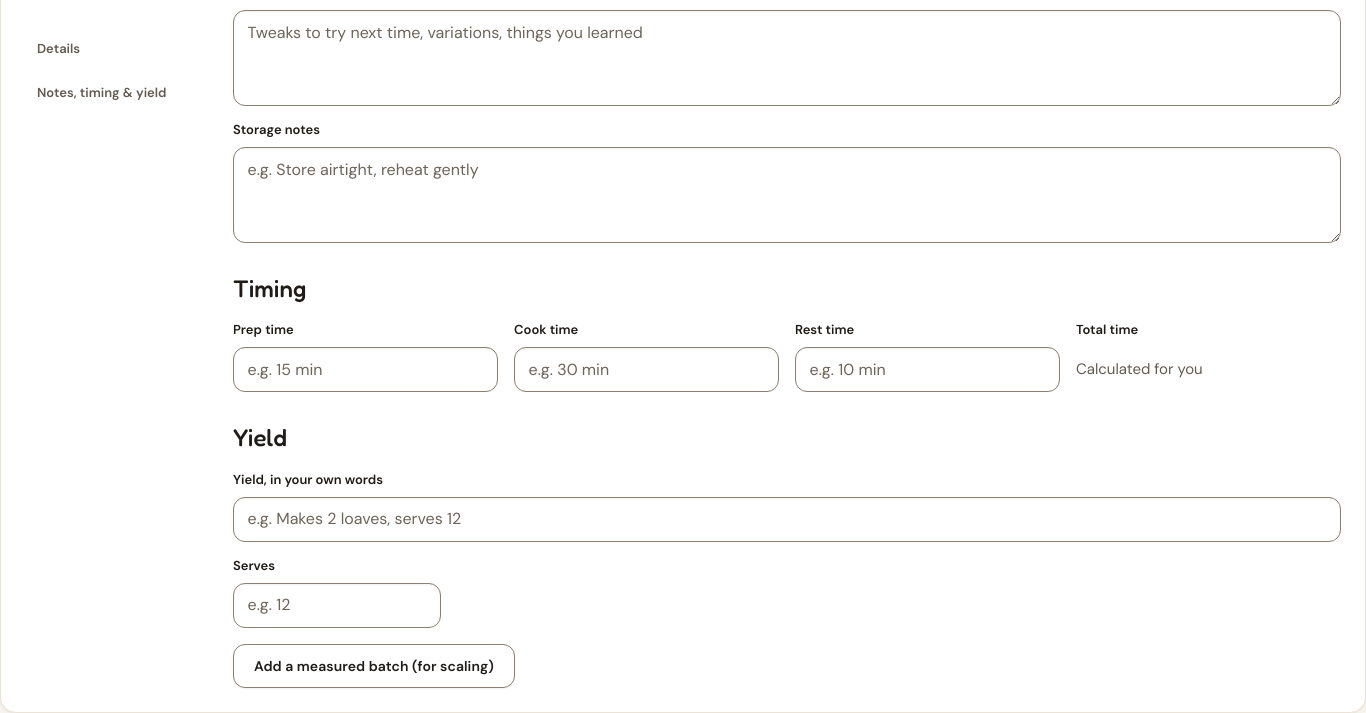
Test case: RecipeEditorComponent › the measured batch is offered, not presented › taking it away again › offers a way out once the fields are showing, and closes them without asking when they hold nothing
(page scrolled)
Click the button "Add a measured batch (for scaling)": (374,666) [233,644,515,688]
(page scrolled)
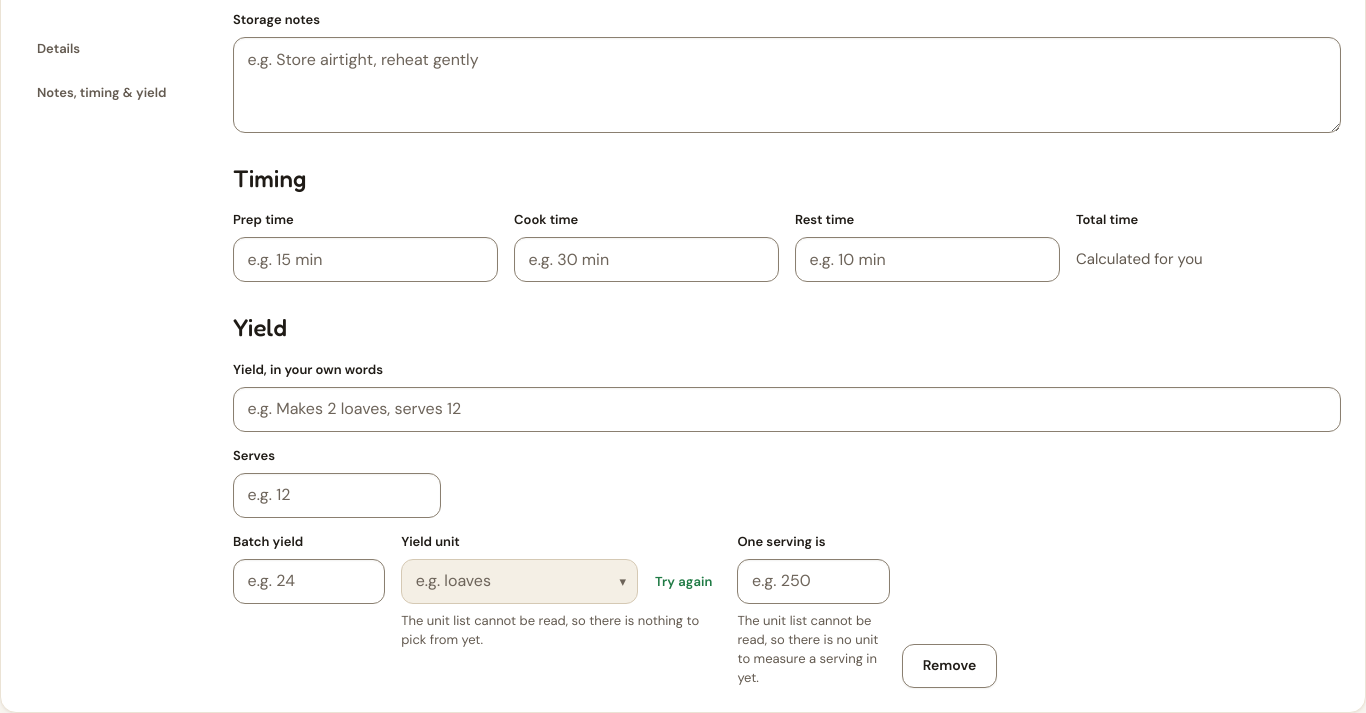
Result: the button with aria-label "Remove measured batch" is shown
Click the button with aria-label "Remove measured batch": (950,666) [902,644,997,688]
(page scrolled)
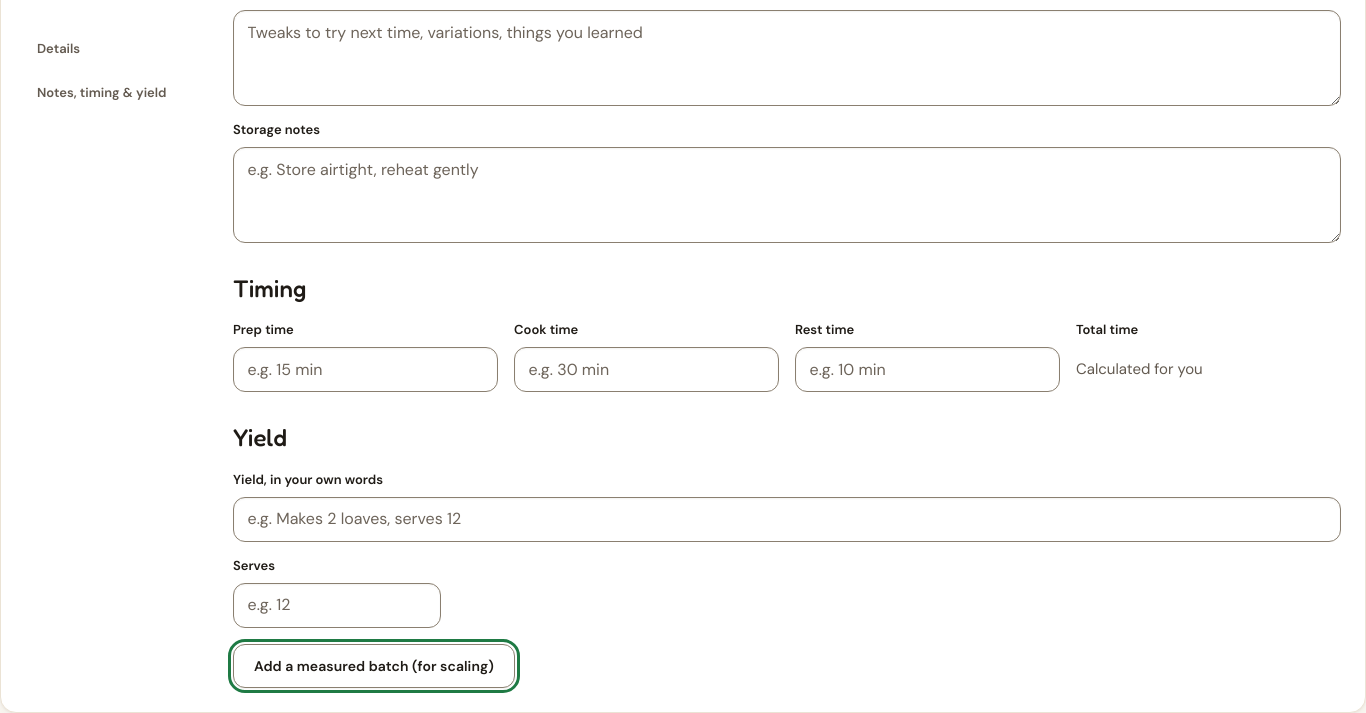
Result: the label with id "recipe-yield-quantity" is gone
Result: the text "Add a measured batch" is shown at [233,644,515,688]
